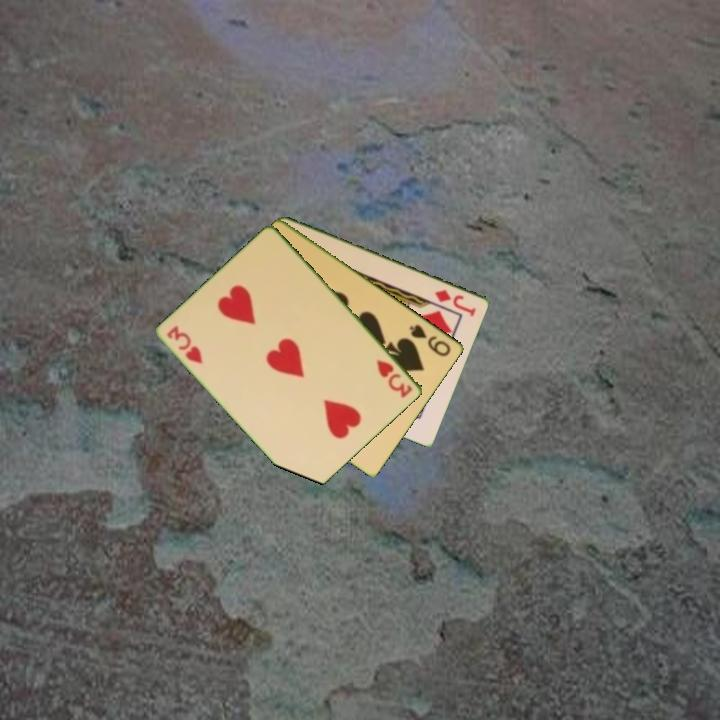3h: (373, 356, 416, 401), (163, 322, 206, 367)
9s: (406, 321, 454, 359)
Jd: (432, 285, 479, 319)
